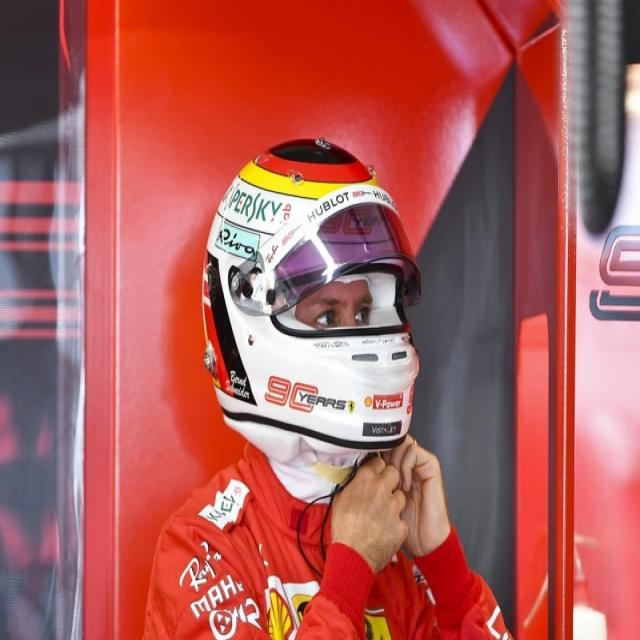Helm: (202, 127, 429, 451)
